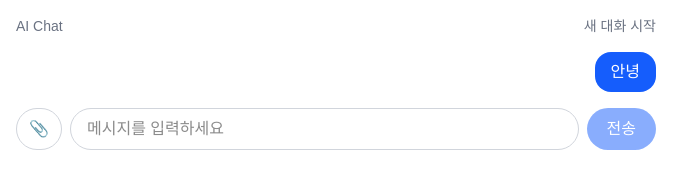
ChatApp › clears the conversation when starting a new one
Step 1. Click the button "새 대화 시작" → (620, 26), box [584,16,656,36]
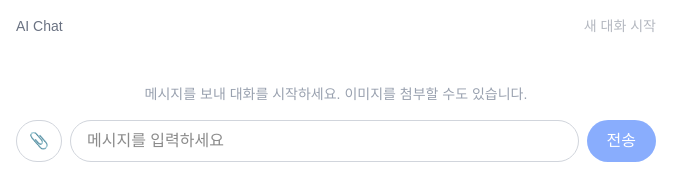
Result: the text "안녕" is gone
